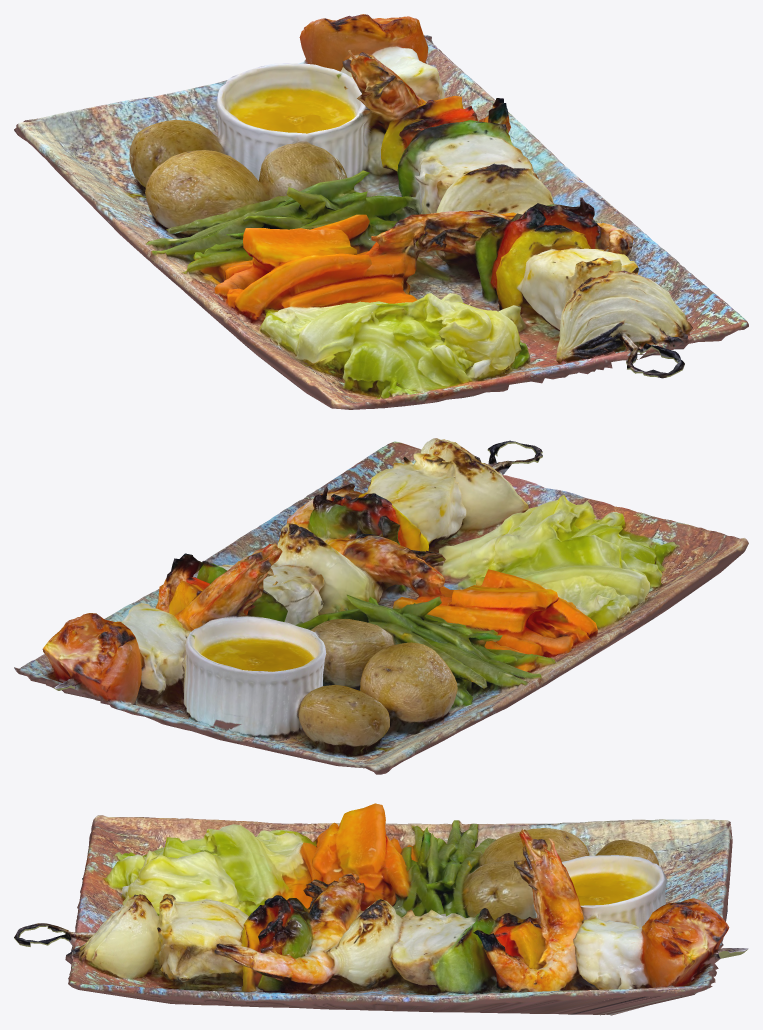
File: EspetadaTamboril.glb
3 renders of one model, top to bottom at view 1: azimuth 30°, elevation 25°; view 2: azimuth 150°, elevation 25°; view 3: azimuth 270°, elevation 25°, orthographic. The views are drawn at different scales.
Parts seen in each view (by area): view 1: Mesh_0; view 2: Mesh_0; view 3: Mesh_0.
Part boxes in pixels (box(x1,y1,x2,y2)): Mesh_0: box(14, 14, 748, 409); Mesh_0: box(14, 438, 748, 774); Mesh_0: box(14, 803, 748, 1015).
Bounding box in the file's own units: 0.9283 × 0.3136 × 1.54.
1 material, 1 textured.
